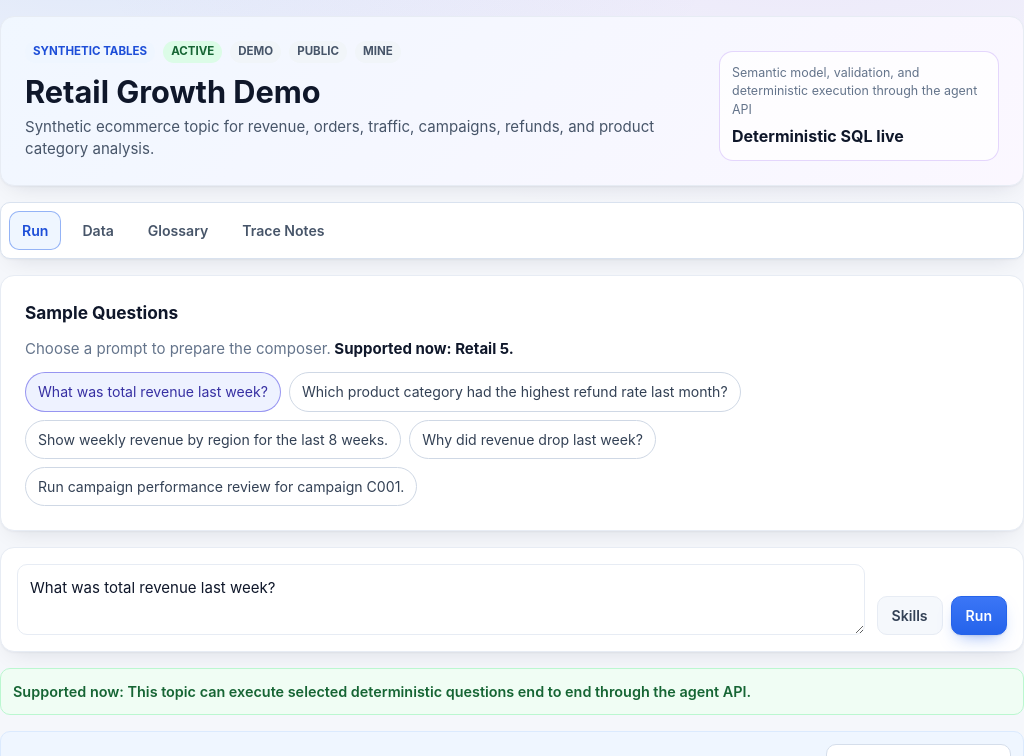
Test: TopicDetailPage › shows safe terminal output for a completed failed AgentRun
Click the button "Run": [979, 615] box [951,596,1007,635]
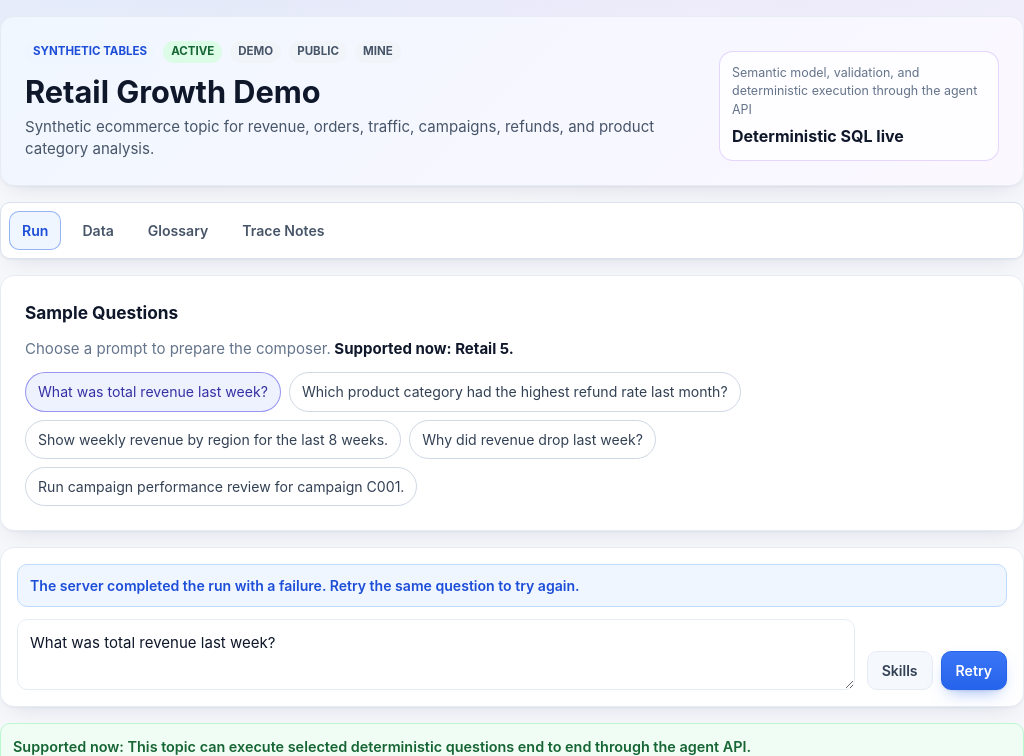
Check: the text "The server completed the run with a failure. Retry the same question to try again." is shown, box [30,577,580,594]
Check: the button "Retry" is shown, box [941,651,1007,690]
